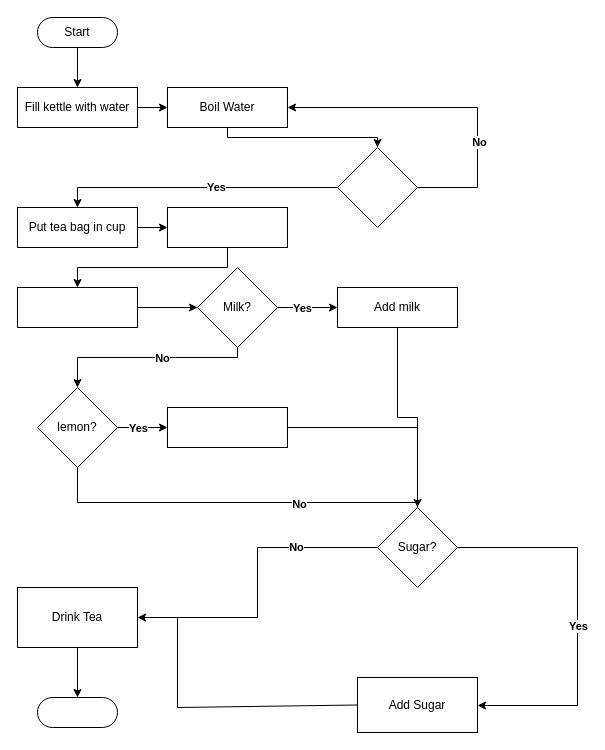
Some shapes in this 605 by 750 pixel diagram are drawn without their labels. Here are the shapes that lost their labels. From the top down, the centre of each, then its label:
At (x=377, y=187): "Water Boiled?".
At (x=227, y=227): "Pour hot water onto tea bag".
At (x=77, y=307): "Remove teabag when brewed".
At (x=227, y=427): "Add lemon".
At (x=77, y=712): "Stop".
